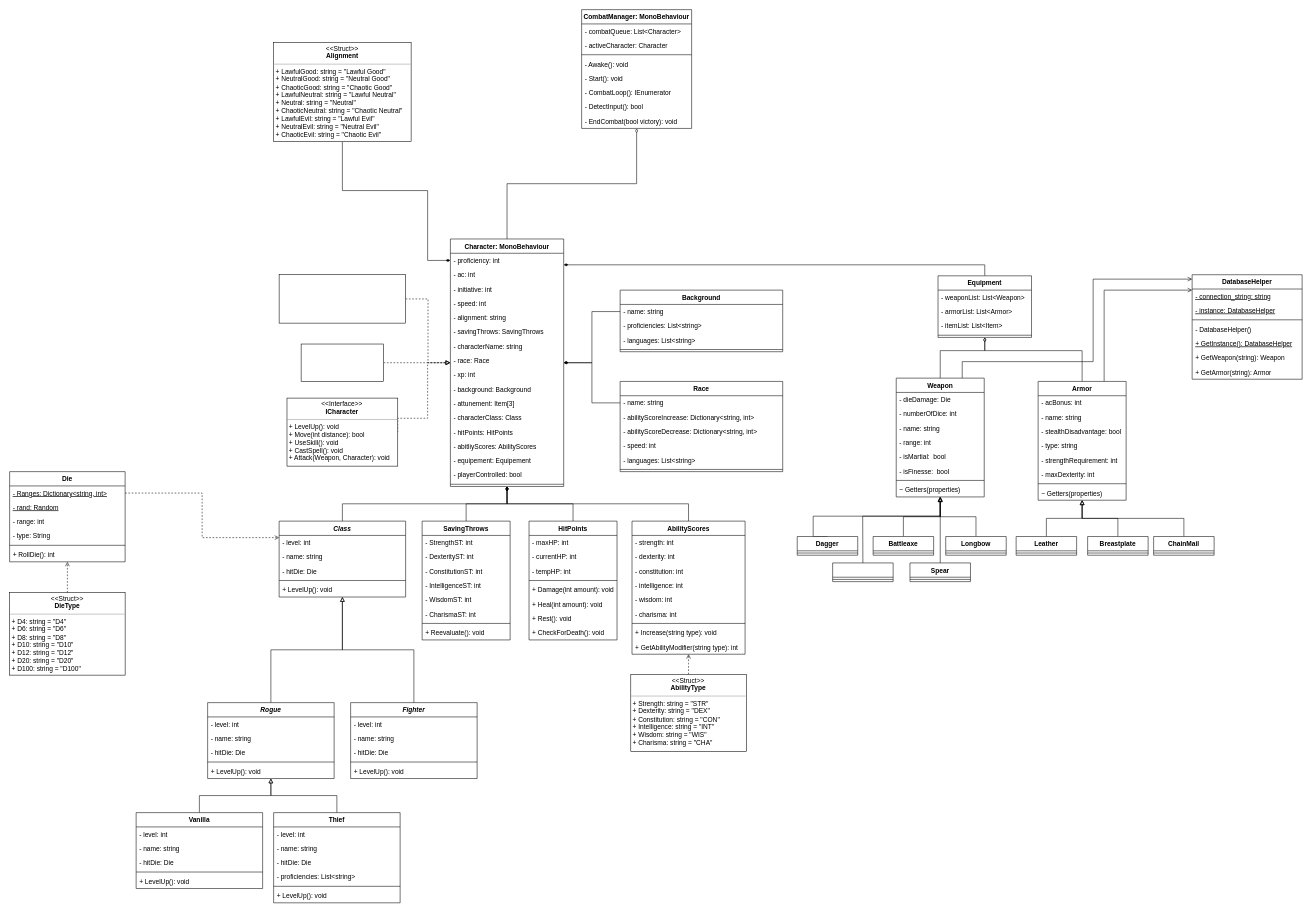
Image size: 1312x914. Some labels were removed from this diagram. The centre of each missing label's shape, as x and y in pixels:
"<<Interface>> IDamageable + Damage(int amount): void + Heal(int amount): void" belongs at (342,298).
"<<Interface>> IKillable + Die(): void" belongs at (342,362).
"Quarterstaff" belongs at (862,572).
